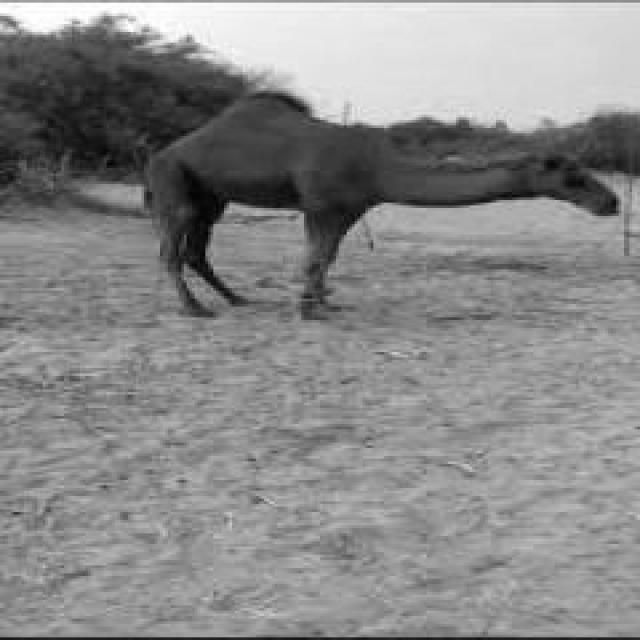Camel: (138, 88, 618, 320)
